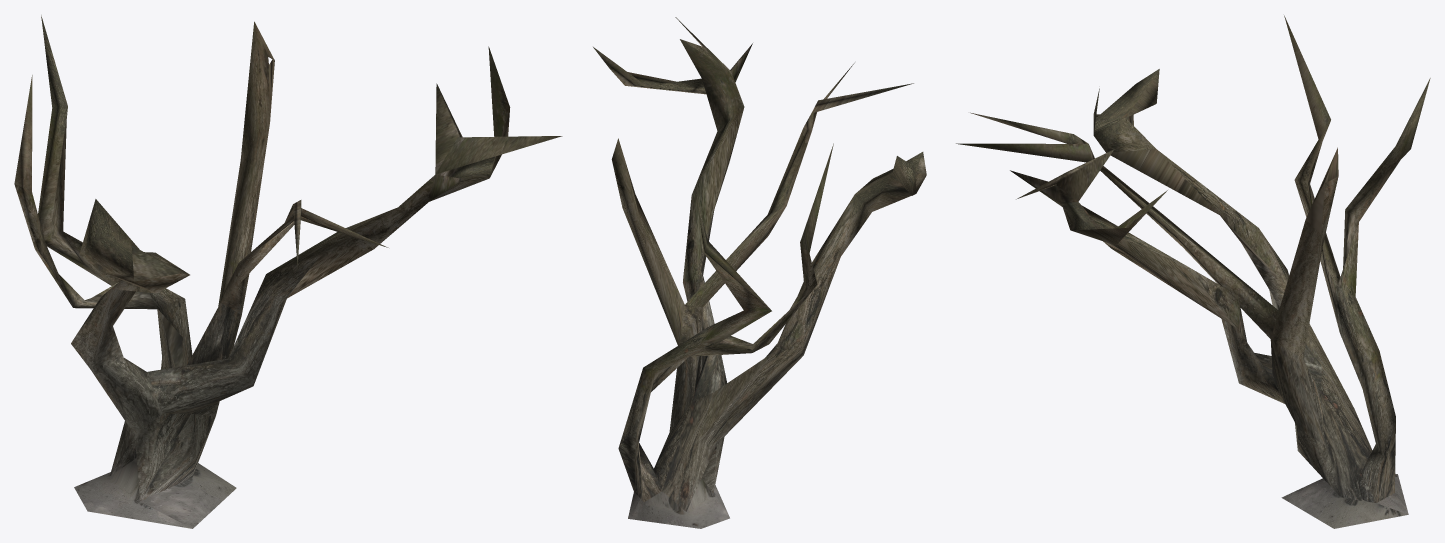
The model's file is island_tree.fbx.
3 views of the same model, side by side, from view 1: azimuth 30°, elevation 25°; view 2: azimuth 150°, elevation 25°; view 3: azimuth 270°, elevation 25° (orthographic). The views are drawn at different scales.
Parts seen in each view (by area): view 1: island_tree_02; view 2: island_tree_02; view 3: island_tree_02.
Part boxes in pixels (<box>): island_tree_02: <box>14,15,562,528</box>; island_tree_02: <box>593,17,926,528</box>; island_tree_02: <box>956,15,1430,528</box>.
Bounding box in the file's own units: 230 × 261 × 269.
